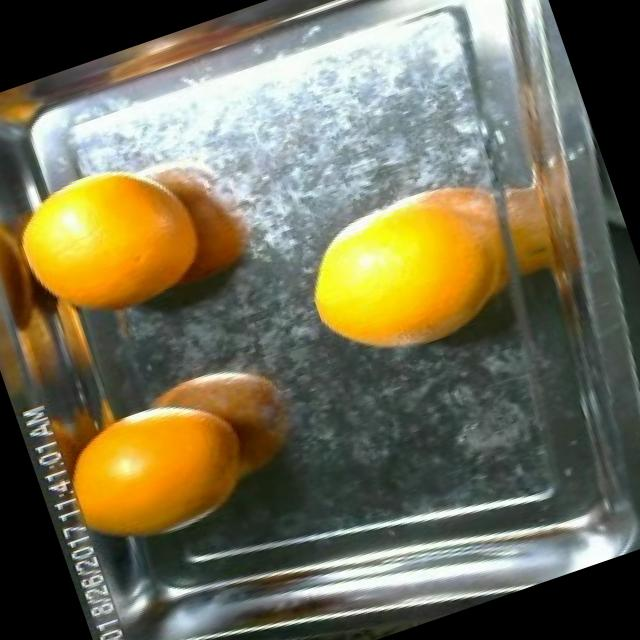Fruit: (270, 163, 519, 392), (0, 135, 240, 361), (35, 370, 279, 581)
